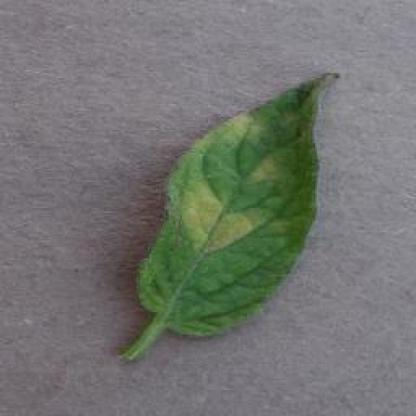Tomato_Leaf_Mold: (142, 73, 329, 334)
